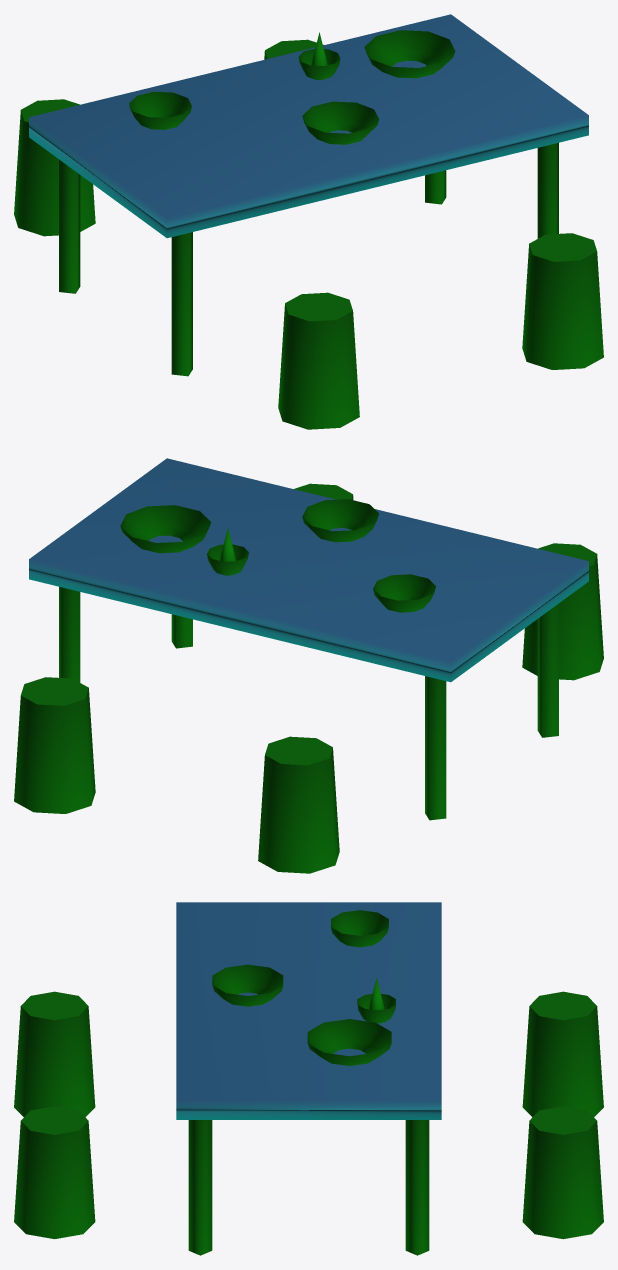
File: hm_supper_table.glb
3 renders of one model, top to bottom at view 1: azimuth 30°, elevation 25°; view 2: azimuth 150°, elevation 25°; view 3: azimuth 270°, elevation 25°, orthographic. The views are drawn at different scales.
Parts seen in each view (by area): view 1: hm_supper_table; view 2: hm_supper_table; view 3: hm_supper_table.
Part boxes in pixels (x1,y1,x2,y2): hm_supper_table: (14,14,603,429); hm_supper_table: (14,458,603,873); hm_supper_table: (14,902,603,1255).
Size of what is drawn, in the model's own units: 1.38 by 0.68 by 1.74.
